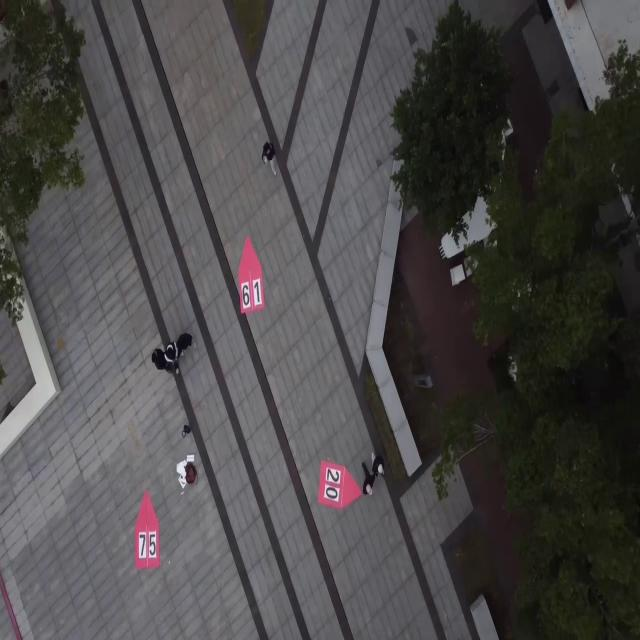-sign-: (310, 452, 370, 514), (132, 482, 170, 576), (237, 234, 265, 314)
